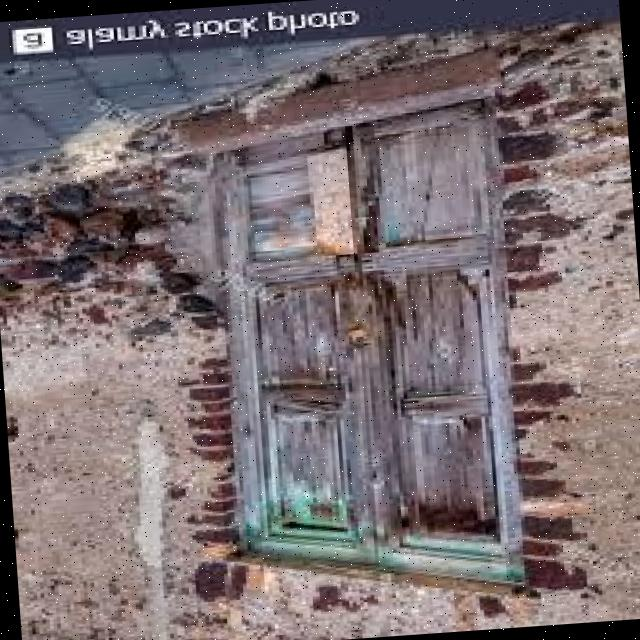Door: (188, 75, 548, 608)
